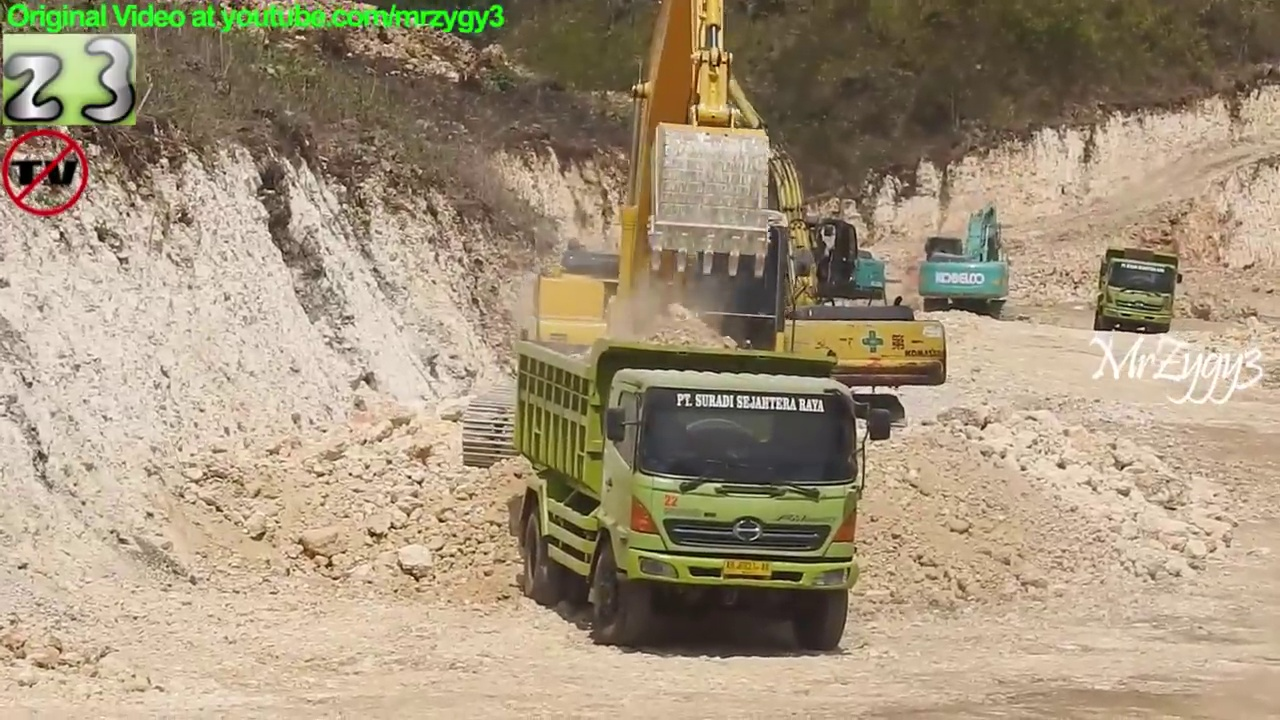excavator: (458, 1, 867, 498), (612, 61, 951, 450), (654, 126, 902, 364), (916, 205, 1015, 327)
truck: (510, 334, 899, 655), (1088, 245, 1186, 338)
